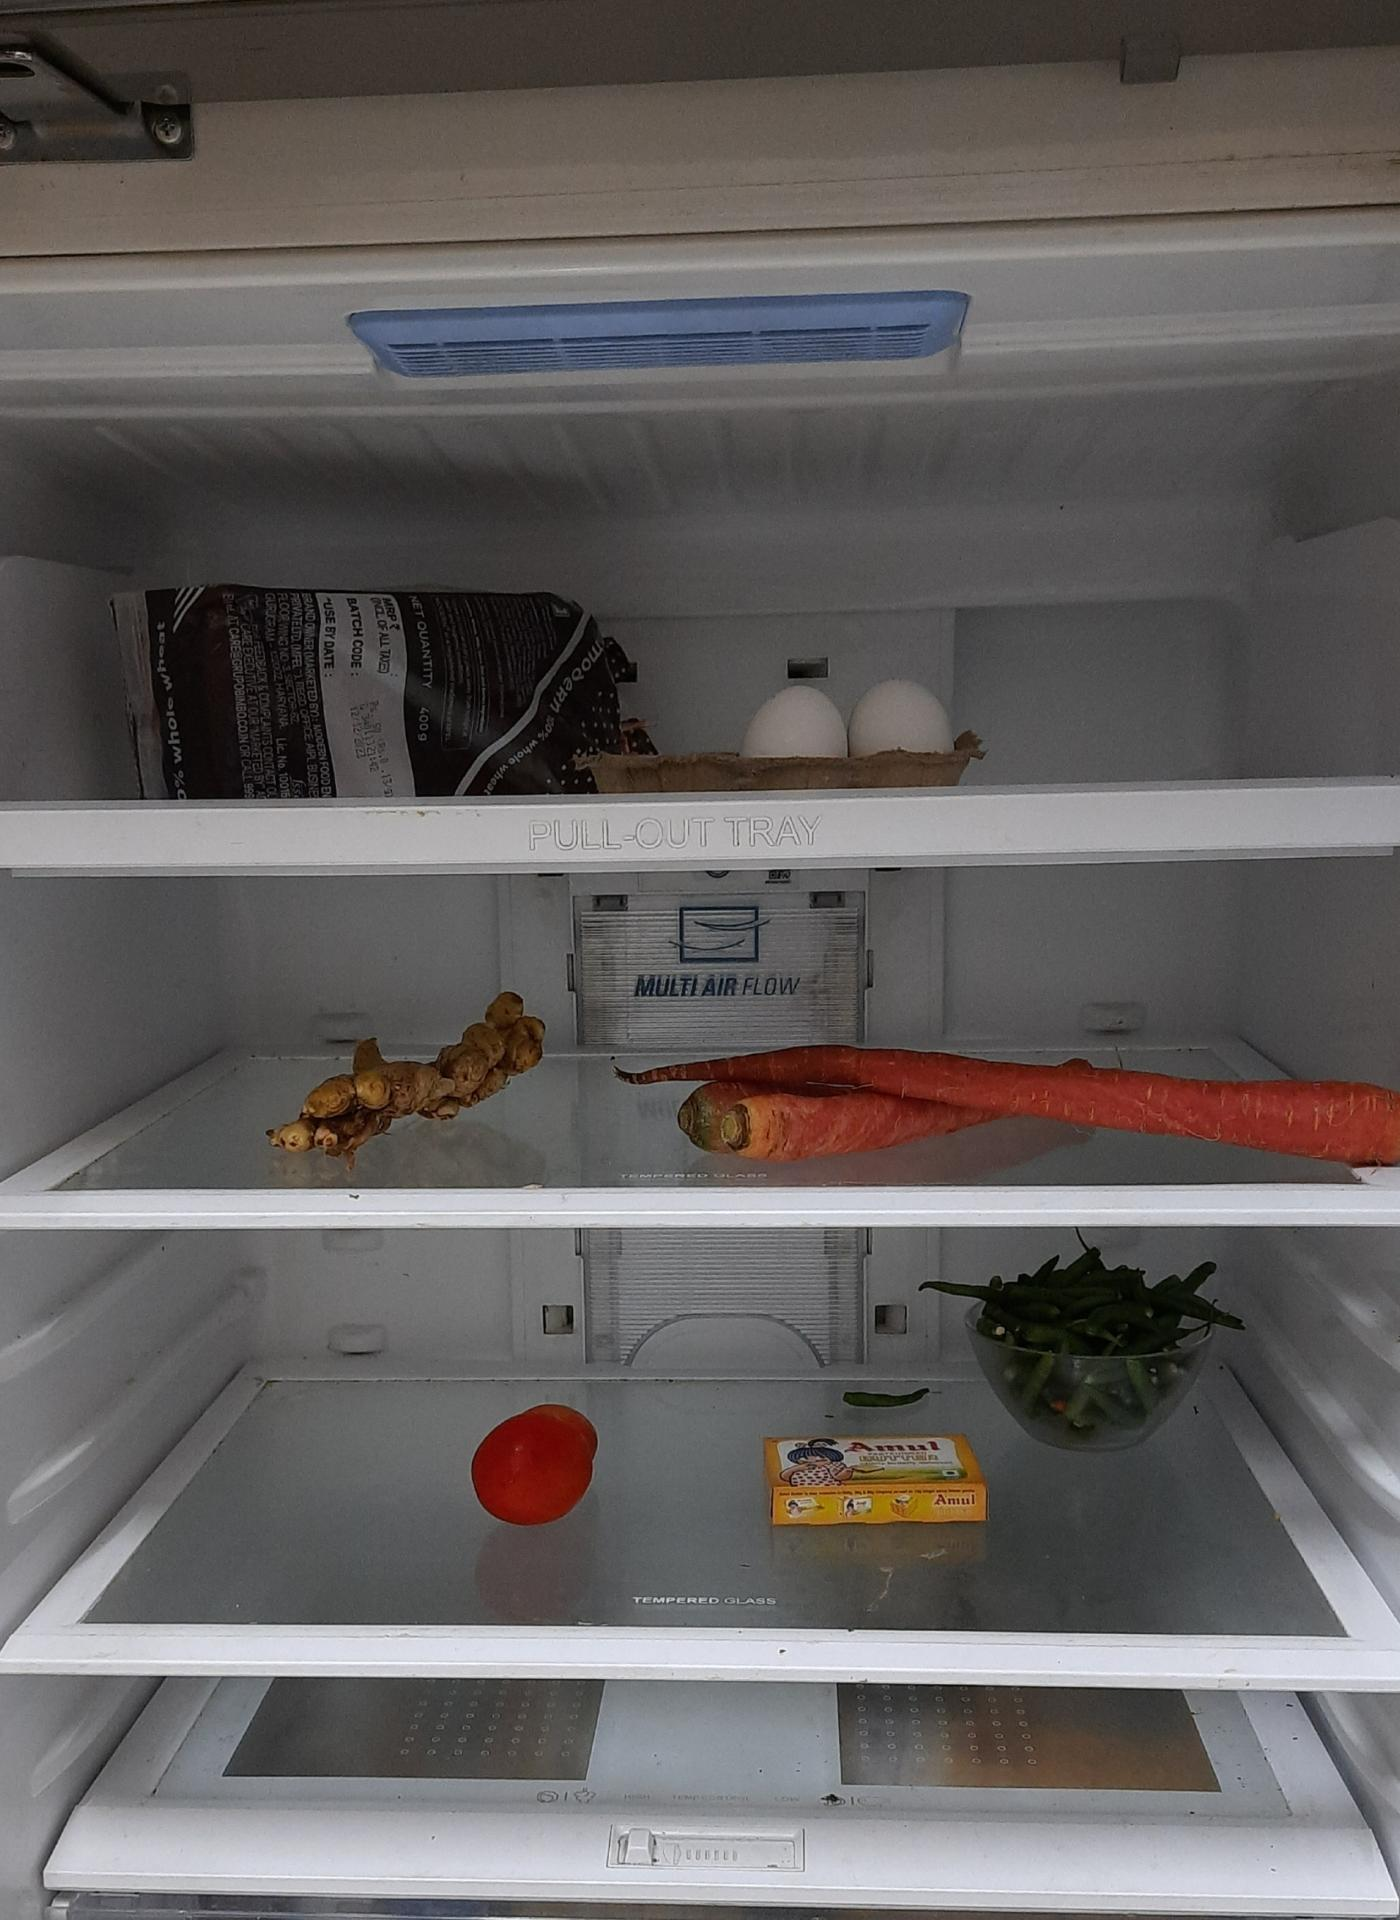bread: (109, 571, 641, 789)
butter: (756, 1433, 987, 1534)
carrots: (610, 1038, 1394, 1172)
chillies: (972, 1260, 1217, 1444)
egg: (740, 680, 971, 769)
ginger: (265, 988, 549, 1170)
tomato: (471, 1403, 602, 1531)
